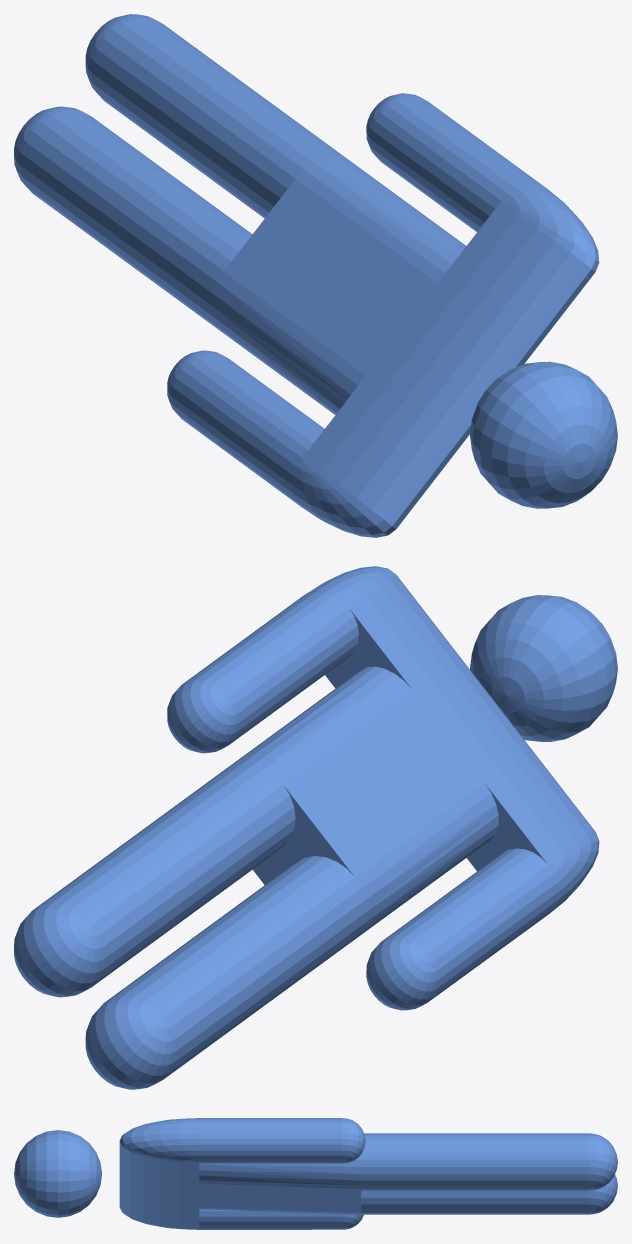
The model's file is Icon Men.glb.
3 renders of one model, top to bottom at view 1: azimuth 30°, elevation 25°; view 2: azimuth 150°, elevation 25°; view 3: azimuth 270°, elevation 25°, orthographic. The views are drawn at different scales.
Parts seen in each view (by area): view 1: world; view 2: world; view 3: world.
Boxes of the visible parts, x1,y1,x2,y2 form: world: (14, 14, 617, 537); world: (14, 566, 617, 1089); world: (14, 1118, 617, 1229).
Size of the model in its own units: 0.3174 by 0.3177 by 1.05.
